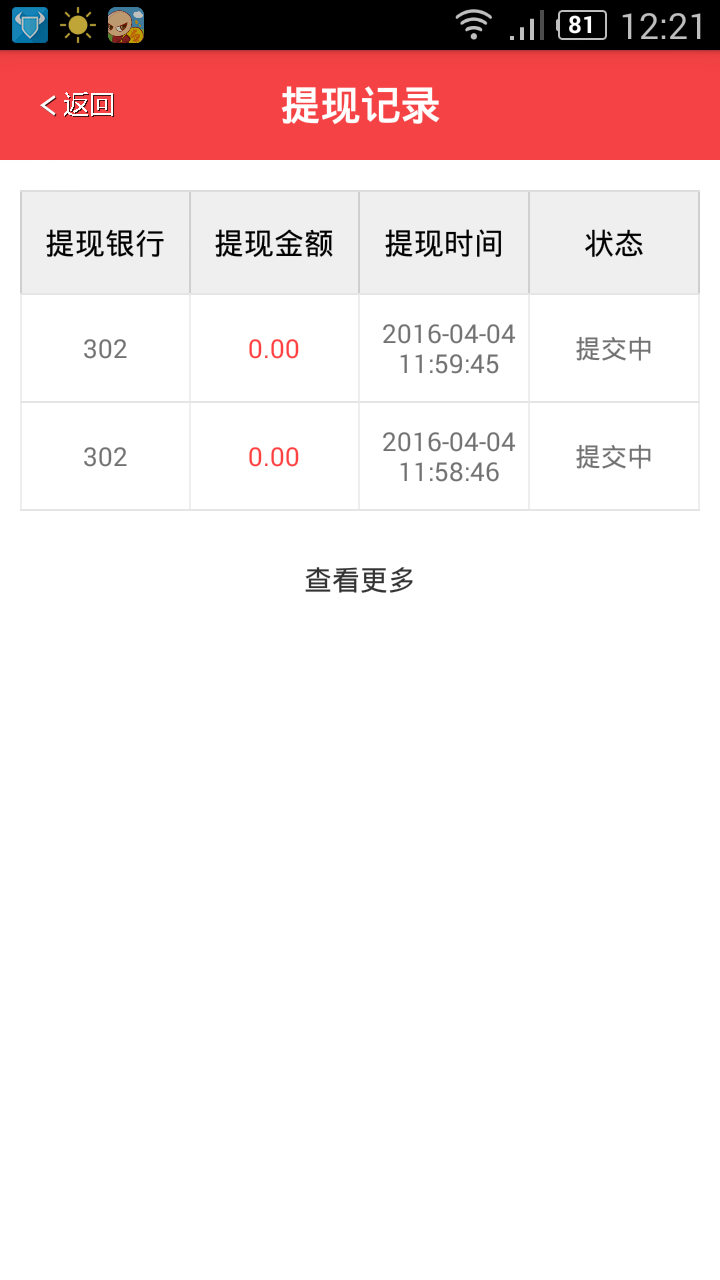textview: (14, 184, 702, 511)
